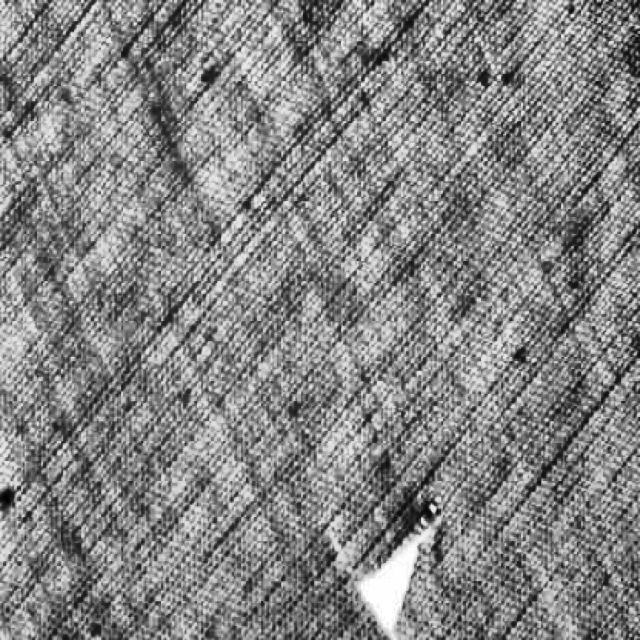hole: (344, 514, 448, 640)
